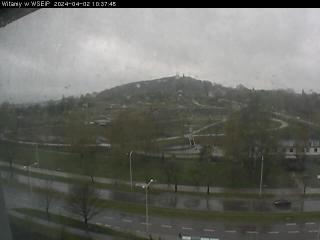car: (272, 196, 292, 208)
